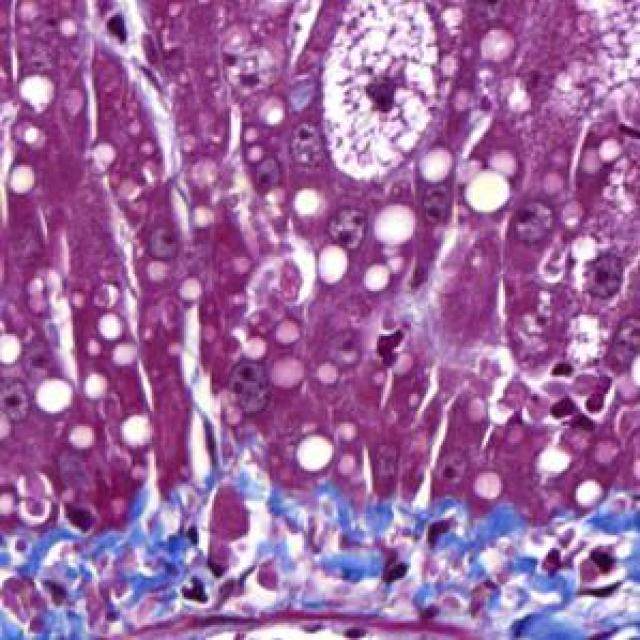ballooning: (319, 9, 449, 186)
